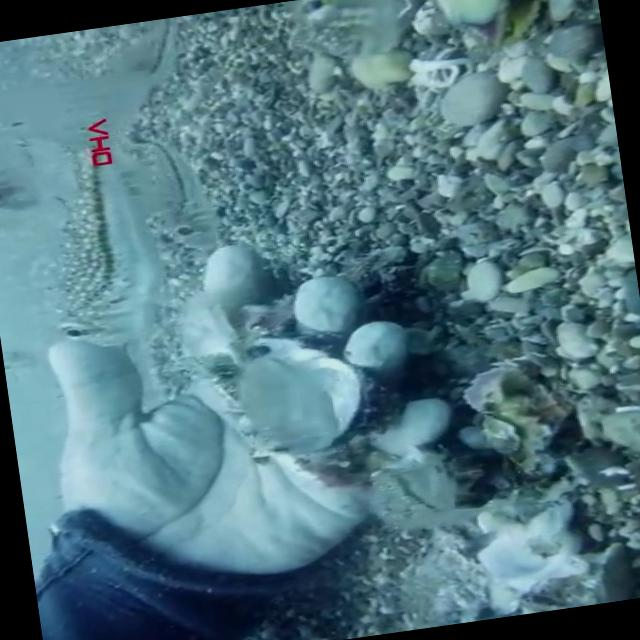Balon Baligi: (28, 114, 158, 354), (128, 132, 220, 258), (291, 0, 403, 63)
